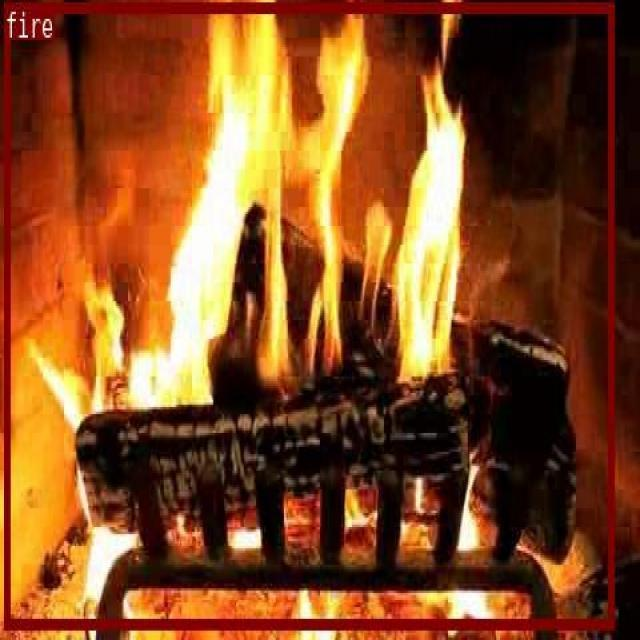fire: (4, 2, 612, 627)
